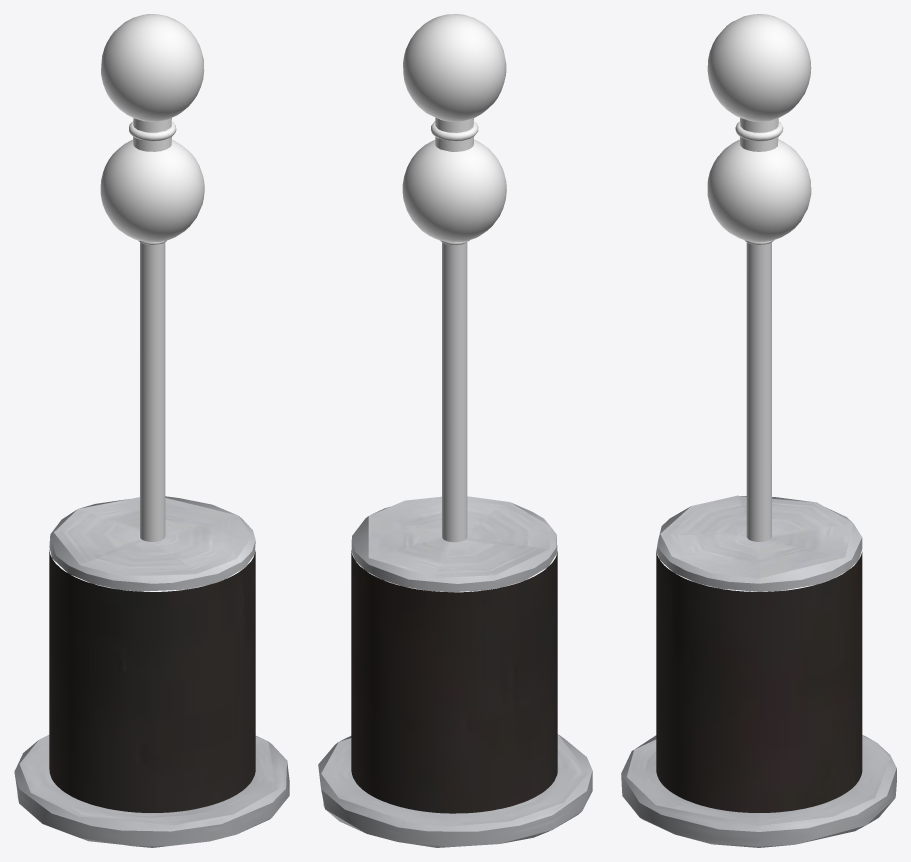
The model's file is ferro-orbis_knight_black.glb.
The picture shows the model from 3 angles, left to right: view 1: azimuth 30°, elevation 25°; view 2: azimuth 150°, elevation 25°; view 3: azimuth 270°, elevation 25°; orthographic projection.
Visible parts, largest first — view 1: ferro-orbis_knight_black; view 2: ferro-orbis_knight_black; view 3: ferro-orbis_knight_black.
Boxes of the visible parts, x1,y1,x2,y2 form: ferro-orbis_knight_black: (14,14,289,847); ferro-orbis_knight_black: (318,14,592,847); ferro-orbis_knight_black: (621,14,896,847).
Bounding box in the file's own units: 0.0258 × 0.08 × 0.0259.
5 materials, 3 textured.
